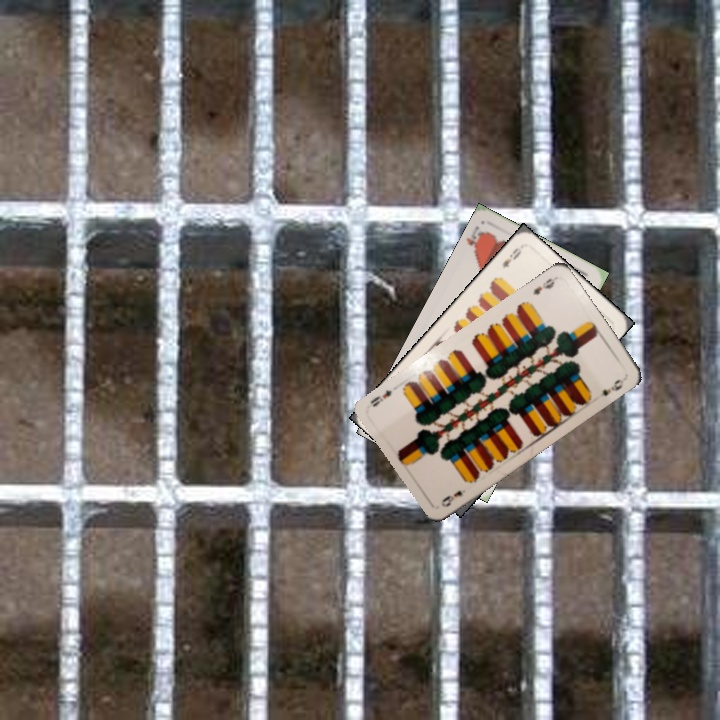E9: (437, 485, 468, 510), (498, 244, 524, 271), (529, 274, 558, 298)
HO: (462, 222, 489, 256)
